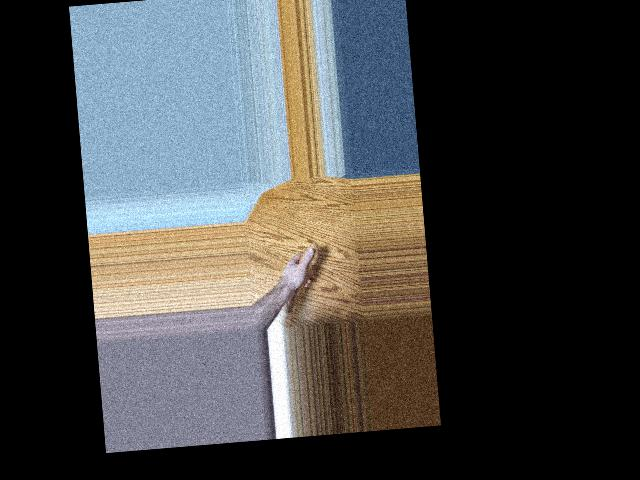sweet_potato: (278, 241, 325, 325)
